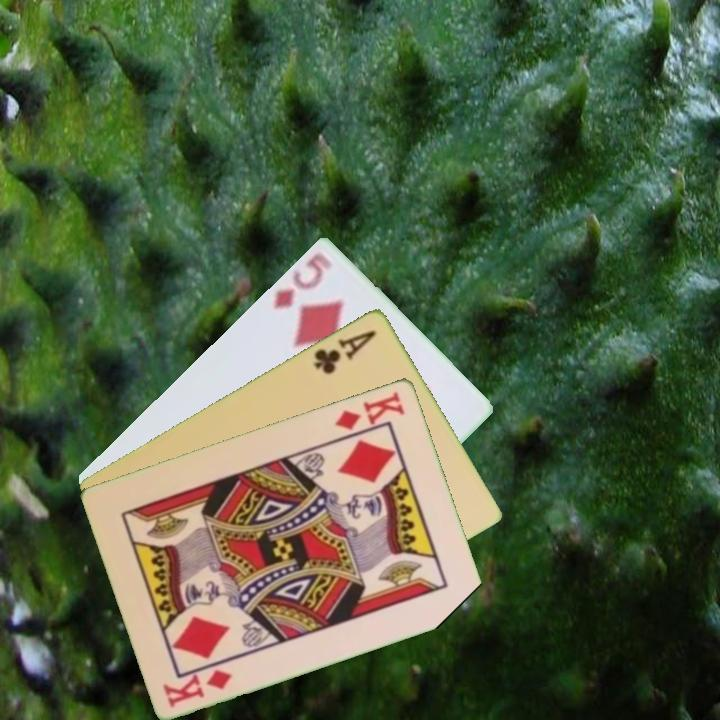5d: (269, 248, 335, 312)
Ac: (310, 325, 380, 377)
Kd: (331, 387, 408, 433), (160, 665, 235, 710)
